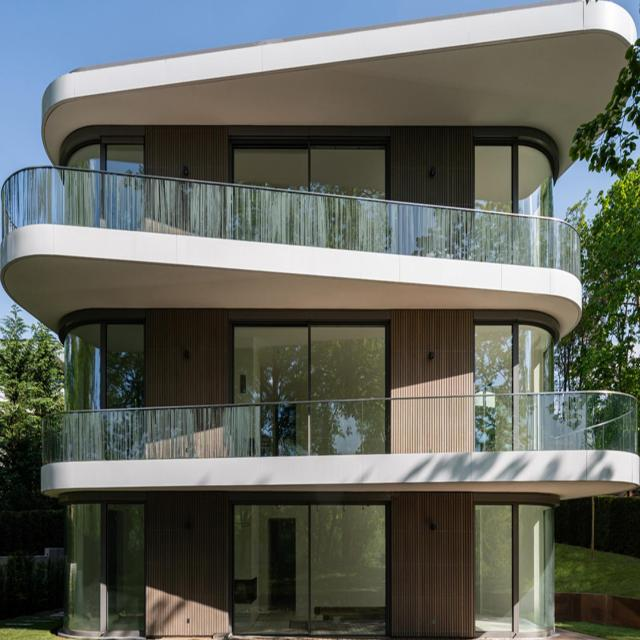Railing: (0, 166, 583, 281), (41, 392, 640, 467)
door: (231, 502, 386, 637), (476, 504, 558, 636), (66, 506, 144, 640)
plant: (557, 34, 640, 397), (0, 319, 66, 478)
wall: (0, 0, 640, 639)
windows: (231, 325, 389, 399), (233, 147, 389, 202), (65, 326, 145, 411), (473, 319, 555, 393), (475, 145, 555, 215), (64, 141, 144, 175)
